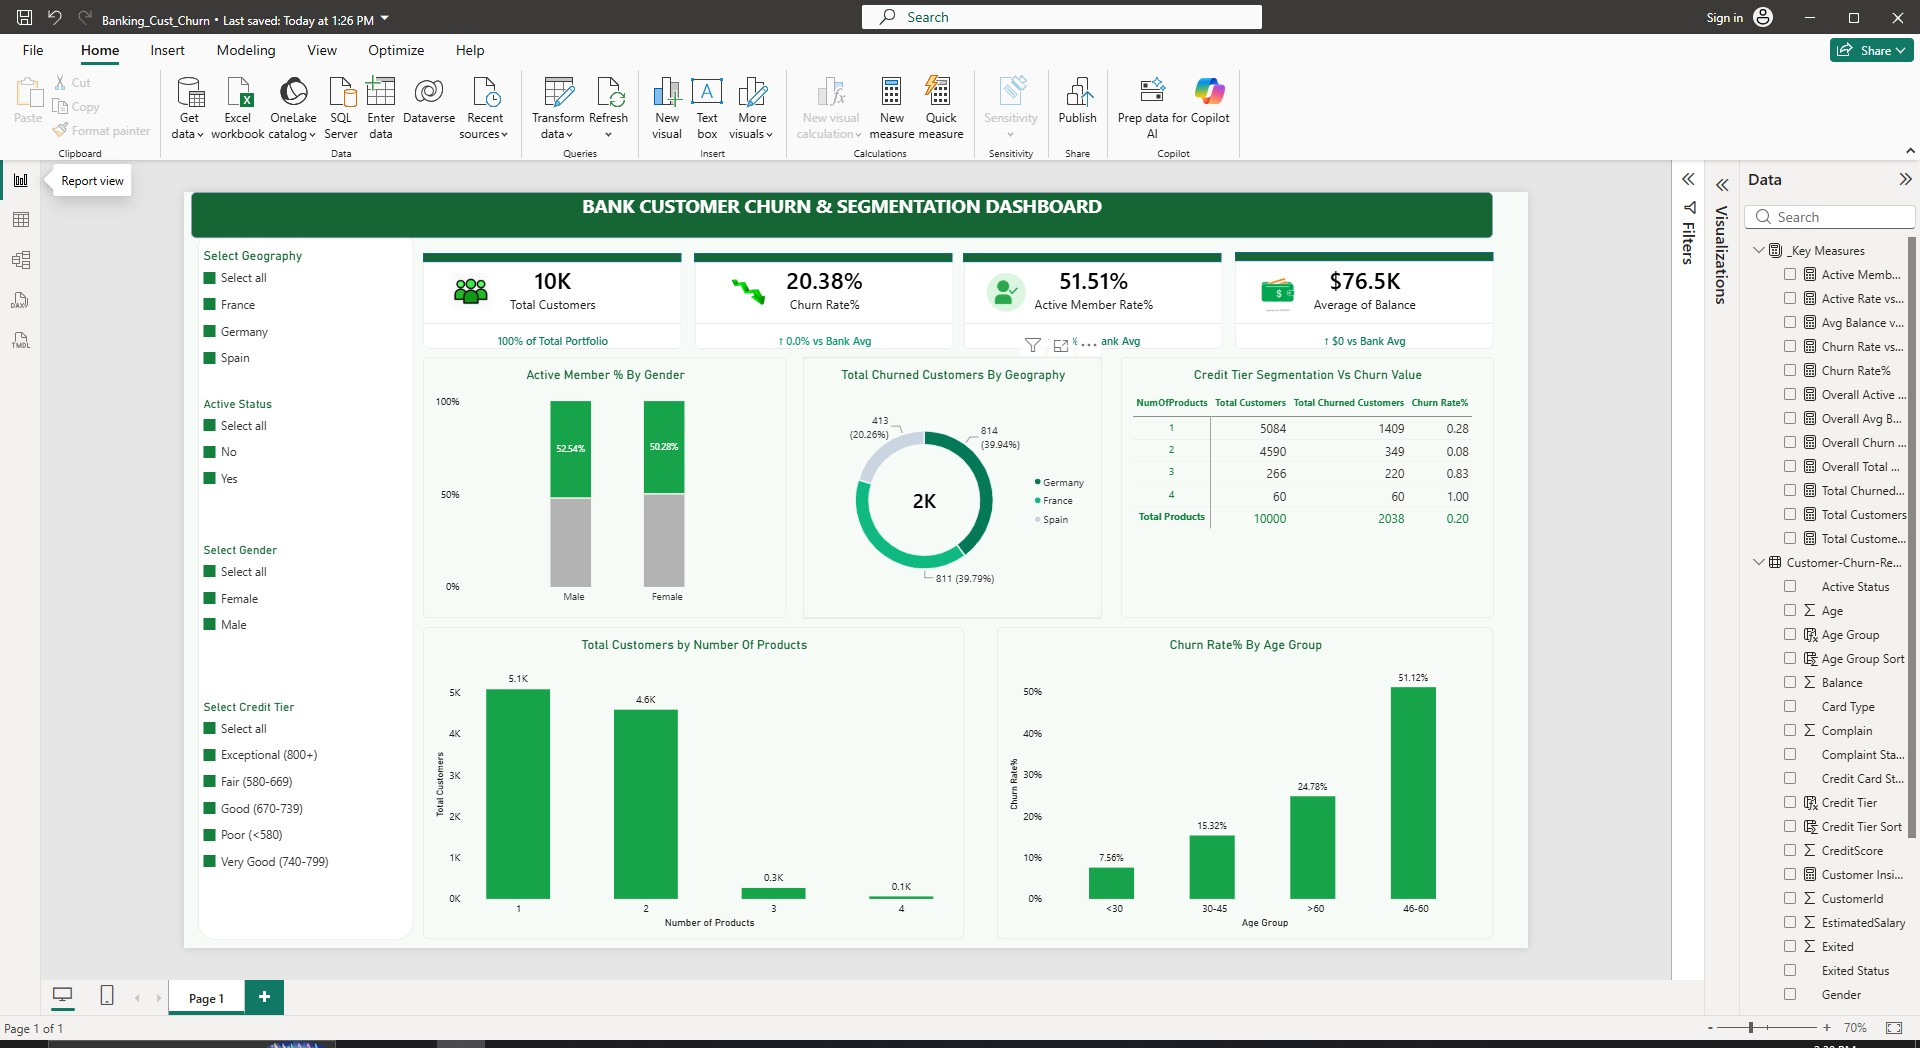

What the dashboard file says about the page in this screenshot:
{"tool":"powerbi","page":{"name":"Page 1","canvas":[1920,1080],"ordinal":0},"visuals":[{"type":"shape","box":[20.4,52.5,307.8,1015.4],"z":0},{"type":"textbox","box":[10.2,0,1860.2,65.7],"z":1000},{"type":"cardVisual","fields":{"Data":["_Key Measures.Total Customers"]},"box":[341.4,87.5,369.1,137.1],"z":2000},{"type":"cardVisual","fields":{"Data":["_Key Measures.Churn Rate%"]},"box":[729.5,87.5,369.1,137.1],"z":3000},{"type":"cardVisual","fields":{"Data":["_Key Measures.Active Member Rate%"]},"box":[1114.7,87.5,369.1,137.1],"z":4000},{"type":"cardVisual","fields":{"Data":["Avg(Customer-Churn-Records.Balance)"]},"box":[1501.3,87.5,369.1,137.1],"z":5000},{"type":"slicer","fields":{"Values":["Customer-Churn-Records.Geography"]},"box":[20.4,80.2,307.8,183.8],"z":6000},{"type":"slicer","fields":{"Values":["Customer-Churn-Records.Active Status"]},"box":[20.4,293.3,308,184],"z":7000},{"type":"slicer","fields":{"Values":["Customer-Churn-Records.Gender"]},"box":[20.4,501.9,308,184],"z":8000},{"type":"slicer","fields":{"Values":["Customer-Churn-Records.Credit Tier"]},"box":[20.4,725.1,307.8,262.6],"z":9000},{"type":"clusteredColumnChart","title":"Churn Rate% By Age Group","fields":{"Y":["_Key Measures.Churn Rate%"],"Category":["Customer-Churn-Records.Age Group"]},"box":[1161.3,621.5,709.1,446.4],"z":10000},{"type":"donutChart","title":"Total Churned Customers By Geography","fields":{"Category":["Customer-Churn-Records.Geography"],"Y":["_Key Measures.Total Churned Customers"]},"box":[884.1,236.4,427.5,373.5],"z":11000},{"type":"clusteredColumnChart","title":"Total Customers by Number Of Products","fields":{"Category":["Customer-Churn-Records.NumOfProducts"],"Y":["_Key Measures.Total Customers"]},"box":[341.4,621.5,773.3,446.4],"z":12000},{"type":"hundredPercentStackedColumnChart","title":"Active Member % By Gender","fields":{"Category":["Customer-Churn-Records.Gender"],"Y":["_Key Measures.Total Customers"],"Series":["Customer-Churn-Records.IsActiveMember"]},"box":[341.4,236.4,519.4,373.5],"z":13000},{"type":"pivotTable","title":"Credit Tier Segmentation Vs  Churn Value","fields":{"Rows":["Customer-Churn-Records.NumOfProducts"],"Values":["_Key Measures.Total Customers","_Key Measures.Total Churned Customers","_Key Measures.Churn Rate%"]},"box":[1337.9,236.4,532.5,373.5],"z":14000},{"type":"shape","box":[341.4,87.5,369.1,13.1],"z":15000},{"type":"shape","box":[728,87.5,369.1,13.1],"z":16000},{"type":"shape","box":[1113.2,87.5,369.1,13.1],"z":17000},{"type":"shape","box":[1501.3,86.1,369.1,13.1],"z":18000},{"type":"image","box":[372.9,114.3,74.4,55.4],"z":20000},{"type":"image","box":[771.4,115.7,70,55.4],"z":20001},{"type":"image","box":[1145.7,115.7,58.4,55.4],"z":20002},{"type":"image","box":[1534.3,112.9,56.9,58.4],"z":20003}]}

Visuals, with their boxes on the page's 1920x1080 design canvas (x1, y1, x2, y2). These are canvas units, not pixel positions in the 1920x1048 screenshot, which may show the page scaled, cropped or inside an application window:
shape: region(20, 52, 328, 1068)
textbox: region(10, 0, 1870, 66)
cardVisual - _Key Measures.Total Customers: region(341, 88, 710, 225)
cardVisual - _Key Measures.Churn Rate%: region(730, 88, 1099, 225)
cardVisual - _Key Measures.Active Member Rate%: region(1115, 88, 1484, 225)
cardVisual - Avg(Customer-Churn-Records.Balance): region(1501, 88, 1870, 225)
slicer - Customer-Churn-Records.Geography: region(20, 80, 328, 264)
slicer - Customer-Churn-Records.Active Status: region(20, 293, 328, 477)
slicer - Customer-Churn-Records.Gender: region(20, 502, 328, 686)
slicer - Customer-Churn-Records.Credit Tier: region(20, 725, 328, 988)
"Churn Rate% By Age Group" clusteredColumnChart: region(1161, 622, 1870, 1068)
"Total Churned Customers By Geography" donutChart: region(884, 236, 1312, 610)
"Total Customers by Number Of Products" clusteredColumnChart: region(341, 622, 1115, 1068)
"Active Member % By Gender" hundredPercentStackedColumnChart: region(341, 236, 861, 610)
"Credit Tier Segmentation Vs  Churn Value" pivotTable: region(1338, 236, 1870, 610)
shape: region(341, 88, 710, 101)
shape: region(728, 88, 1097, 101)
shape: region(1113, 88, 1482, 101)
shape: region(1501, 86, 1870, 99)
image: region(373, 114, 447, 170)
image: region(771, 116, 841, 171)
image: region(1146, 116, 1204, 171)
image: region(1534, 113, 1591, 171)
